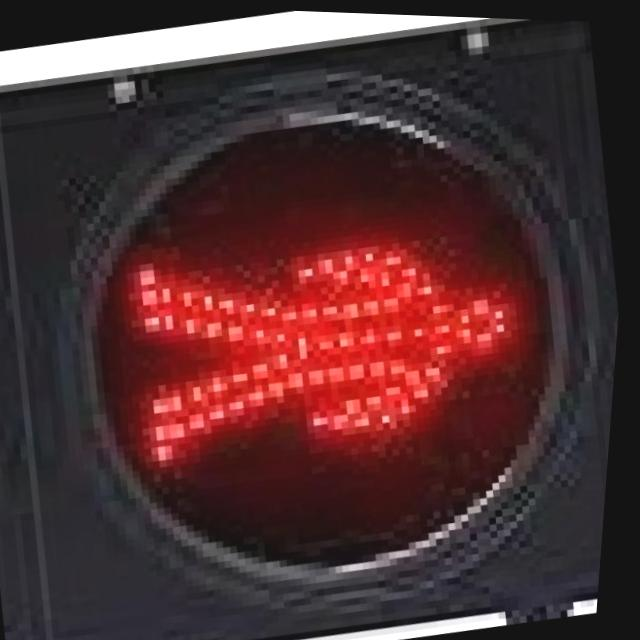red_light: (89, 158, 590, 504)
